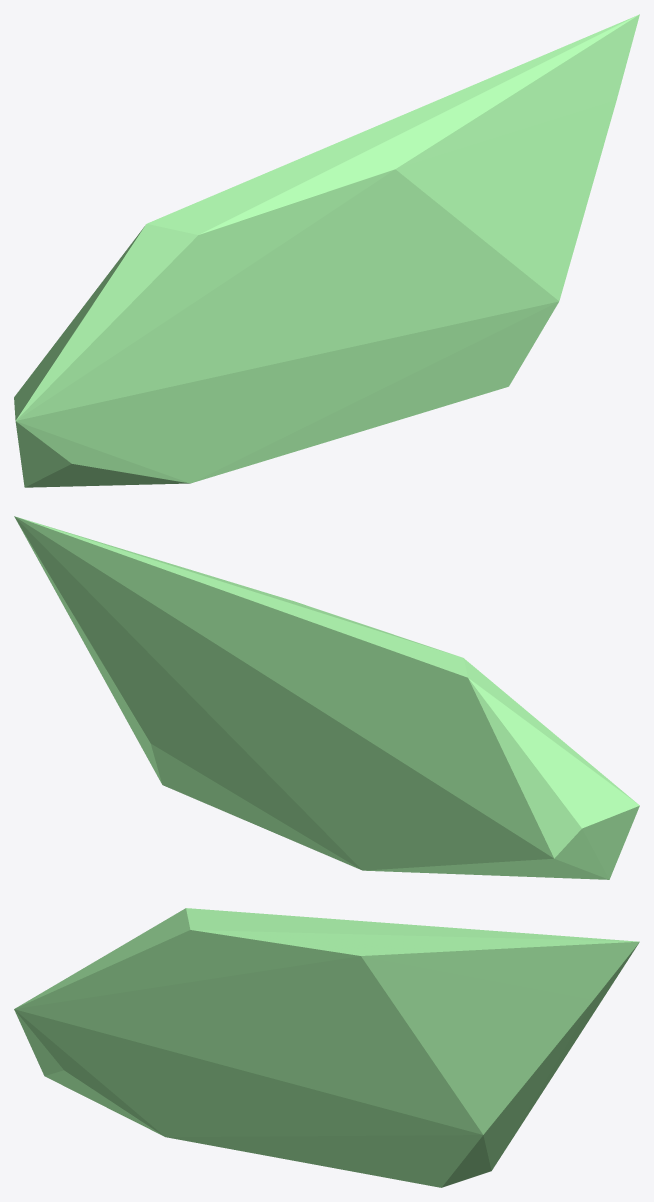
The model's file is linkhou_LR4_R560_link2_respondable_coll_7.dae.
3 renders of one model, top to bottom at view 1: azimuth 30°, elevation 25°; view 2: azimuth 150°, elevation 25°; view 3: azimuth 330°, elevation 25°, orthographic. The views are drawn at different scales.
Visible parts, largest first — view 1: Node_0000029808438130; view 2: Node_0000029808438130; view 3: Node_0000029808438130.
Boxes of the visible parts, bbox=[...] form: Node_0000029808438130: bbox=[14, 14, 639, 487]; Node_0000029808438130: bbox=[14, 516, 639, 879]; Node_0000029808438130: bbox=[14, 908, 639, 1187].
Size of the model in its own units: 0.1473 by 0.0651 by 0.0195.
